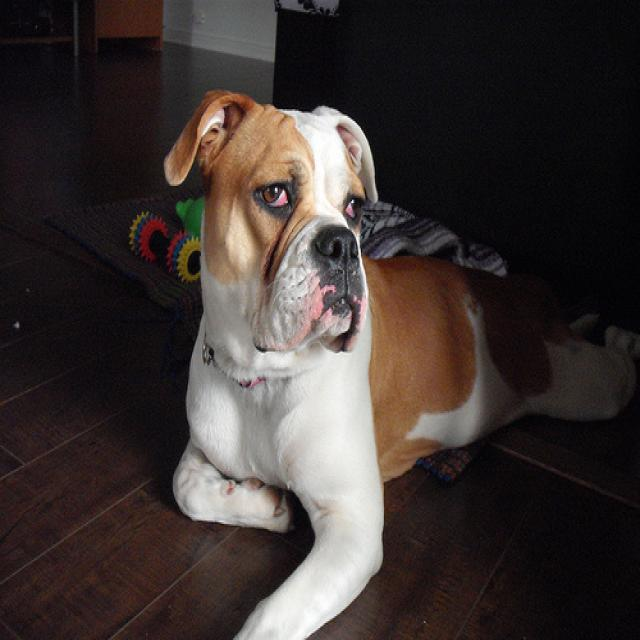dog-american_bulldog: (152, 80, 637, 637)
